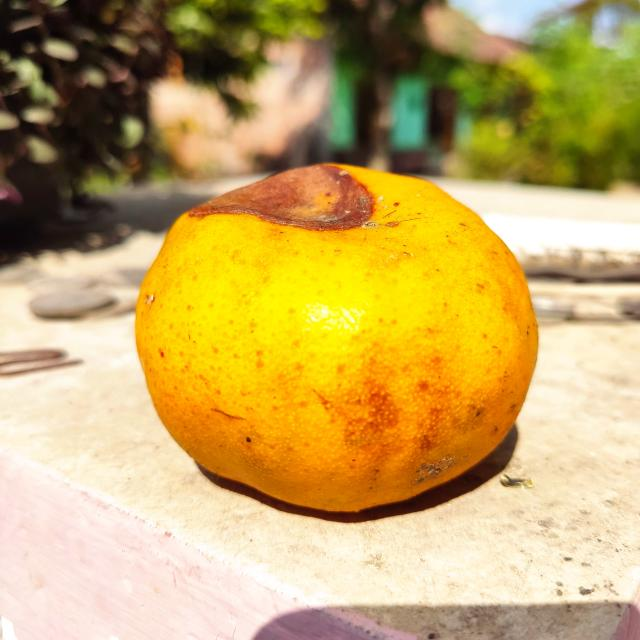orange: (129, 158, 544, 517)
